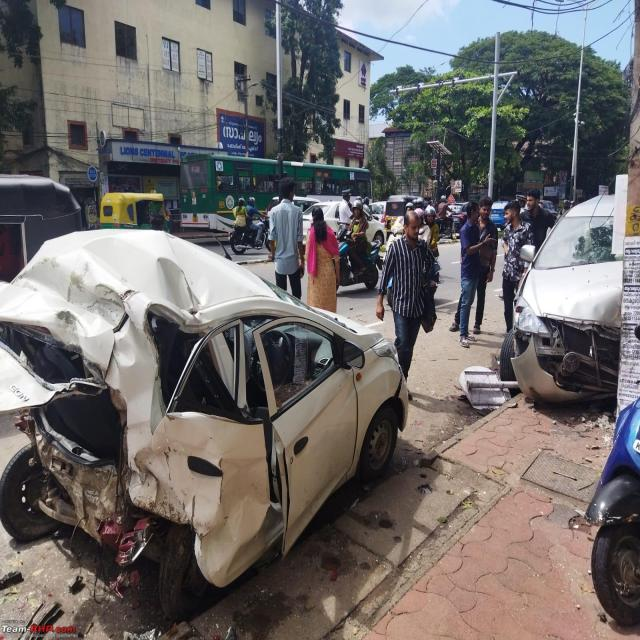accident: (0, 228, 409, 618), (499, 195, 622, 402)
autorickshaw: (100, 193, 169, 231)
bus: (180, 153, 371, 232)
motorcycle: (338, 200, 382, 289), (230, 197, 270, 255)
